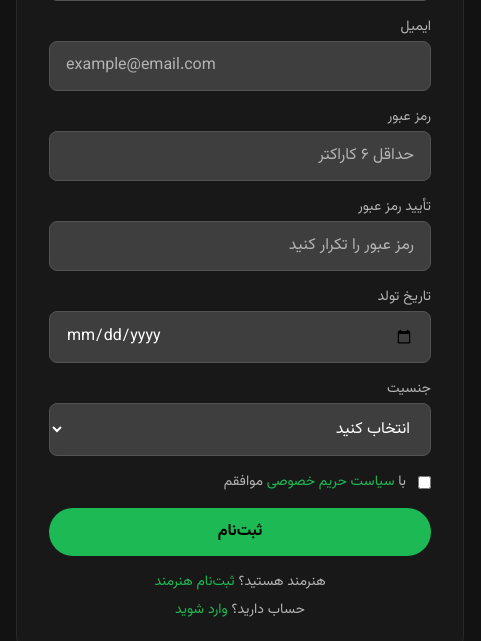
it: RegisterForm › ۸. اگر جنسیت انتخاب نشده باشد، خطا نشان می‌دهد
(page scrolled)
Click the button "ثبت‌نام" at (240, 532), box [49, 508, 431, 556]
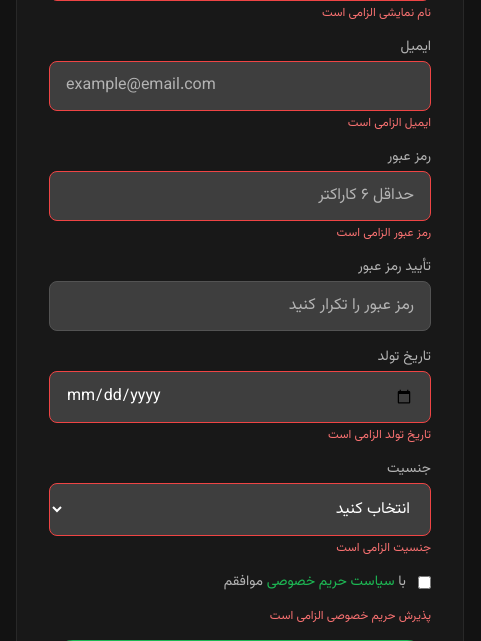
Check: the text "جنسیت الزامی است" is shown, box [336, 539, 431, 557]
